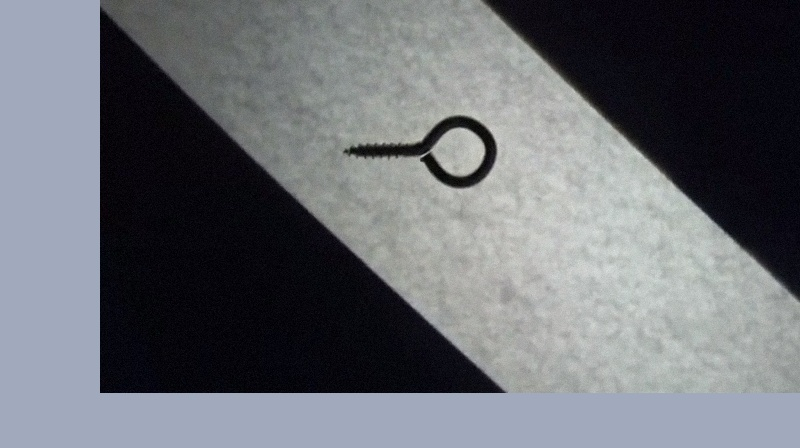O001: (337, 113, 501, 188)
